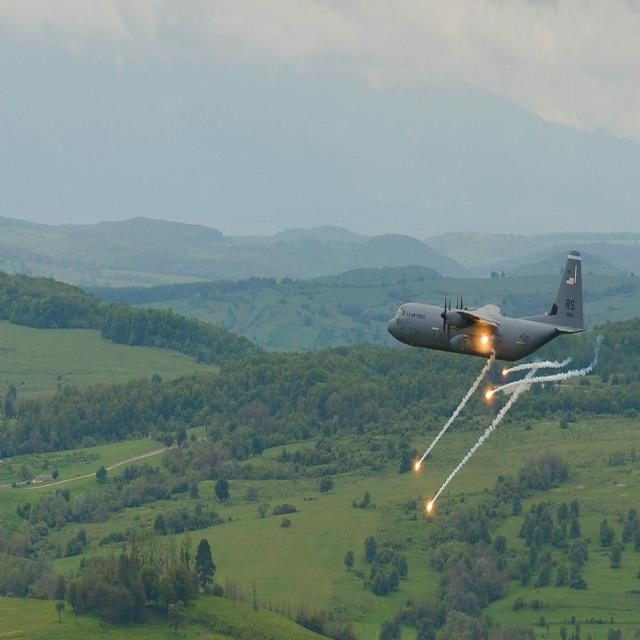MIL_Plane: (355, 251, 554, 361)
